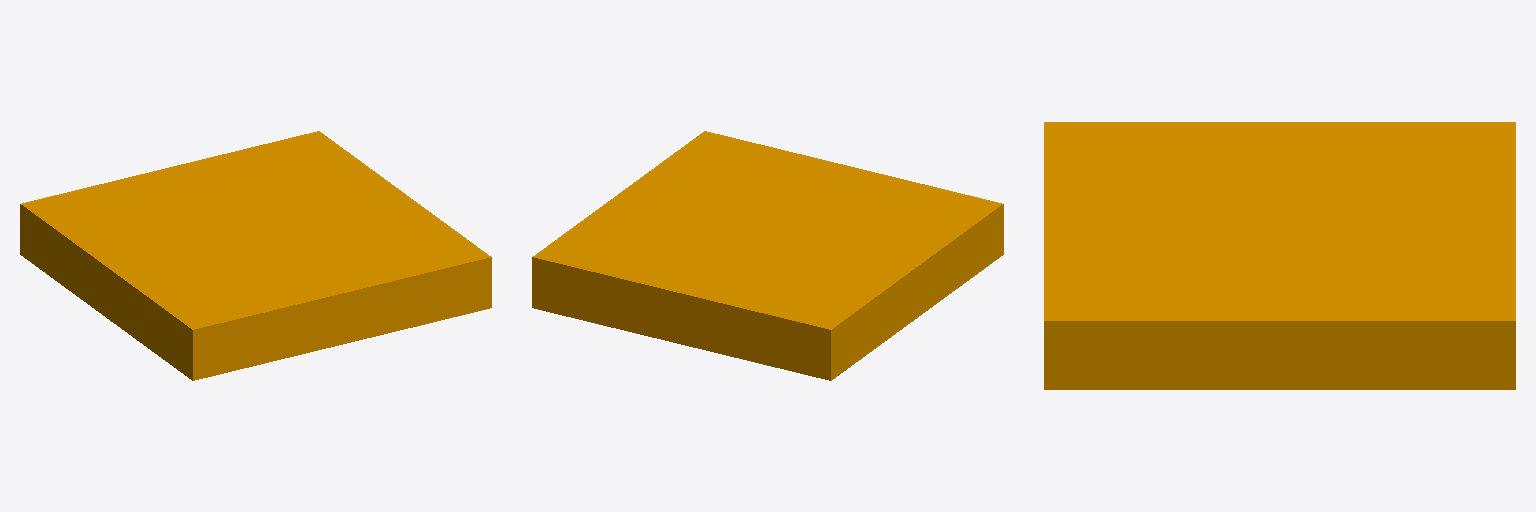
robot.urdf — ar_2020:
<robot name="ar_2020">

<!-- * * * Link Definitions * * * -->

    <link name="simple_box_base_link">
 	    <inertial>
            <origin xyz="0 0 0" rpy="0 0 0"/>
            <mass value="1.0" />
            <inertia ixx="0.0741666666667" ixy="0.0" ixz="0.0" iyy="0.0585416666667" iyz="0.0" izz="0.0260416666667"/>
        </inertial>
        <collision>
            <origin xyz="0 0 0" rpy="0 0 0"/>
            <geometry>
                <box size="0.2 0.2 0.2"/>
            </geometry>
        </collision>
        <visual>
            <origin rpy="0.0 0 0" xyz="0 0 0"/>
            <geometry>
                <!--<box size="0.8 0.8 0.2"/>-->
                <mesh filename="package://turtlebot3_simulations/turtlebot3_gazebo/models/box/box.dae"/>
            </geometry>
        </visual>
    </link>
    
    <gazebo reference="simple_box_base_link">
        <kp>100000.0</kp>
        <kd>100000.0</kd>
        <mu1>0.1</mu1>
        <mu2>0.1</mu2>
        <fdir1>1 0 0</fdir1>
    </gazebo>

</robot>

--- Render facts (derived) ---
3 views of the same robot in one strip: view 1: azimuth 30°, elevation 25°; view 2: azimuth 150°, elevation 25°; view 3: azimuth 270°, elevation 25° (orthographic).
Robot: ar_2020 — 1 links, 0 joints (none); root link simple_box_base_link; default pose: all joints at 0.
Visible links, largest first — view 1: simple_box_base_link; view 2: simple_box_base_link; view 3: simple_box_base_link.
Link boxes in pixels (x1,y1,x2,y2): simple_box_base_link: [20, 131, 491, 380]; simple_box_base_link: [532, 131, 1003, 380]; simple_box_base_link: [1044, 122, 1515, 389].
Bounding box of the posed robot: 0.09 × 0.09 × 0.0147 m (x, y, z).
Meshes: 1 distinct files referenced, 1 mesh visuals loaded (1 Collada DAE).